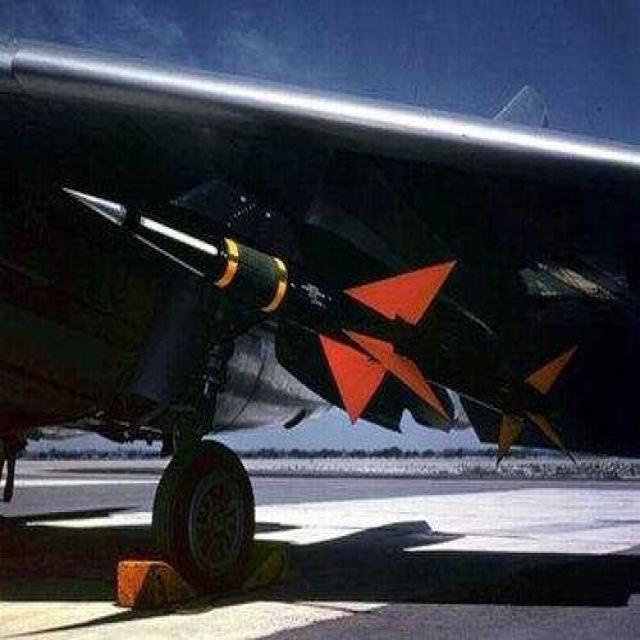missile: (61, 180, 579, 473)
